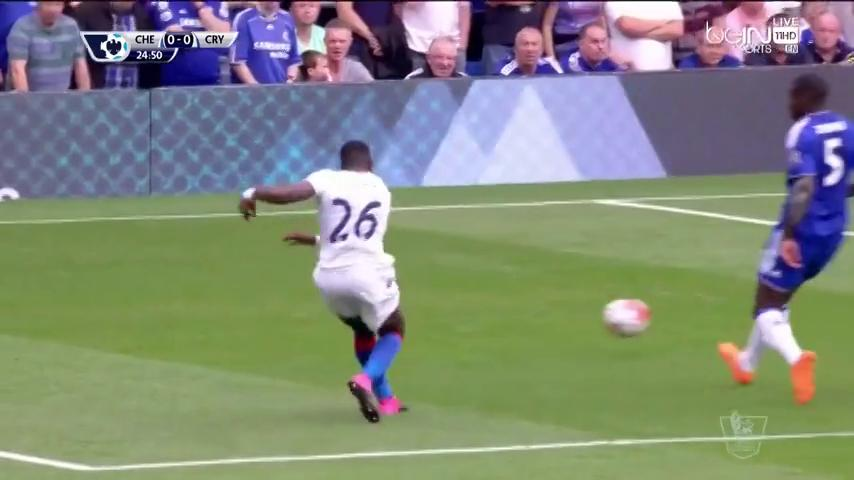football: (601, 297, 652, 338)
